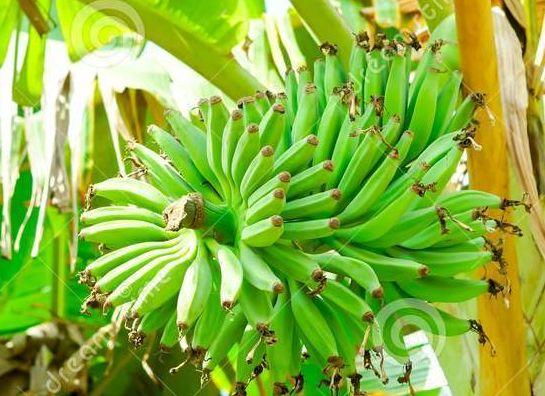Banana Unripe: (43, 33, 531, 396)
